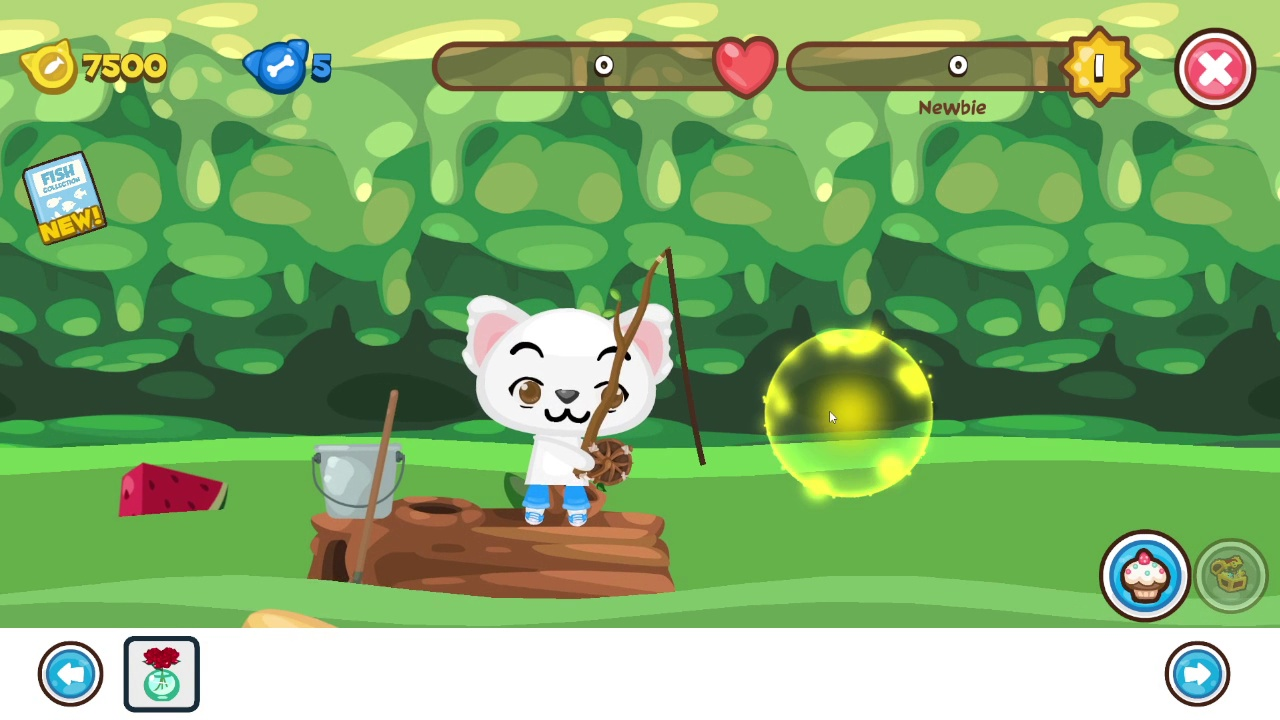point: (763, 328, 934, 498)
